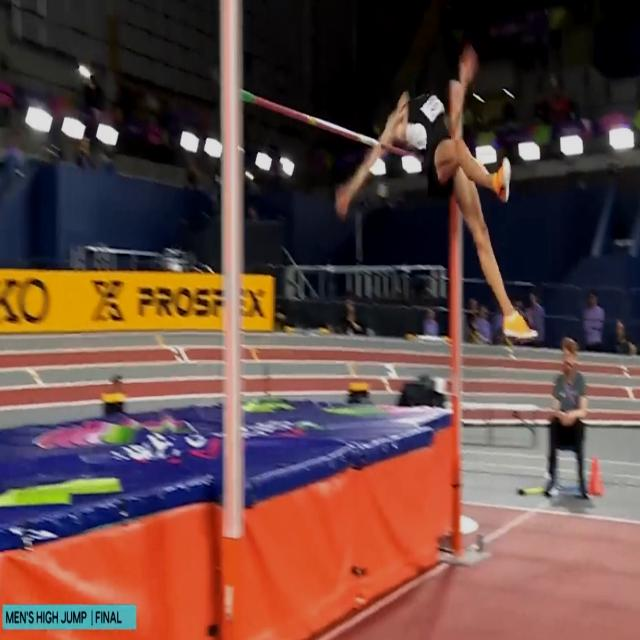jump: (335, 43, 539, 340)
